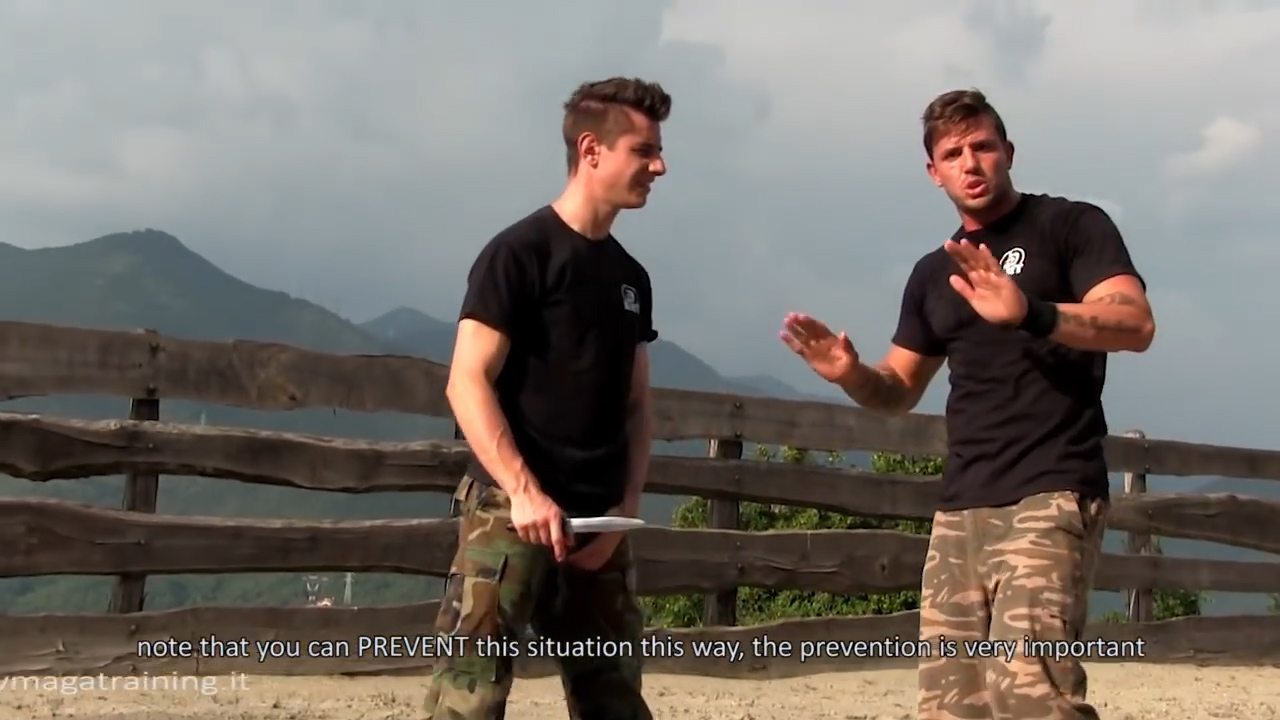knife: (503, 507, 658, 564)
